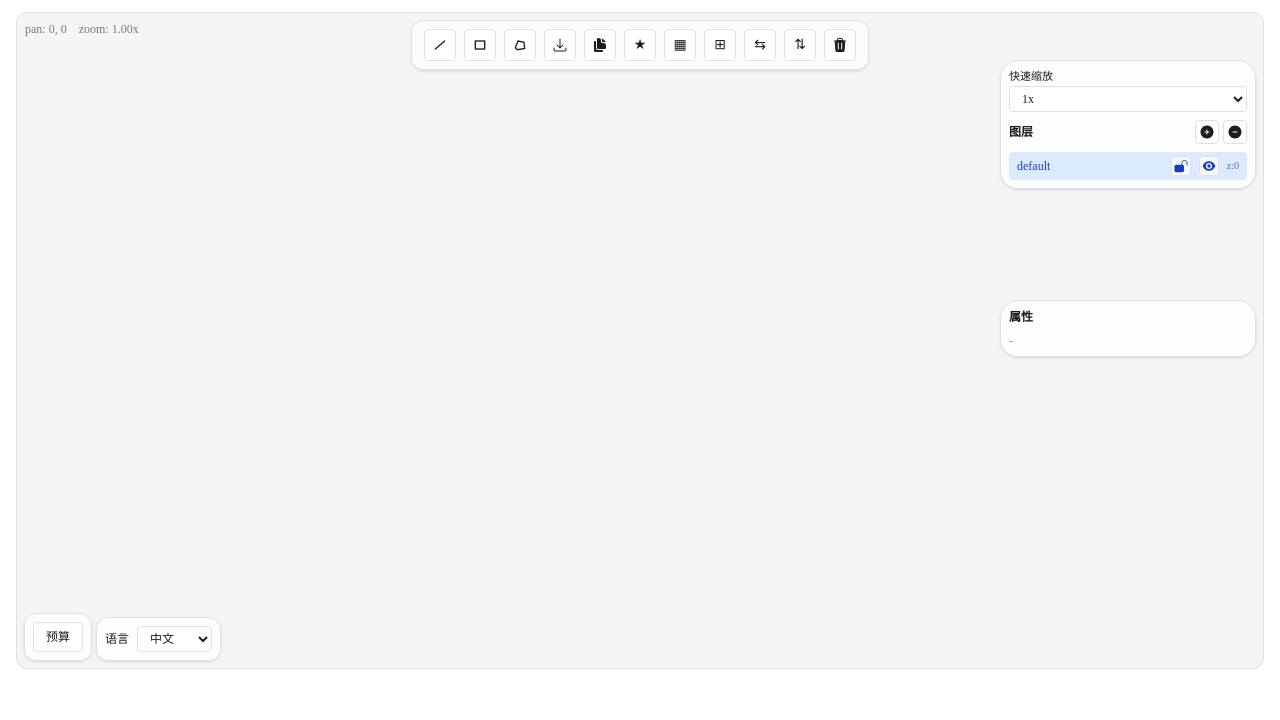
it: EditorPage › supports editing selected item alias
Click the button named "添加矩形".
click(480, 45)  # box [464,29,496,61]
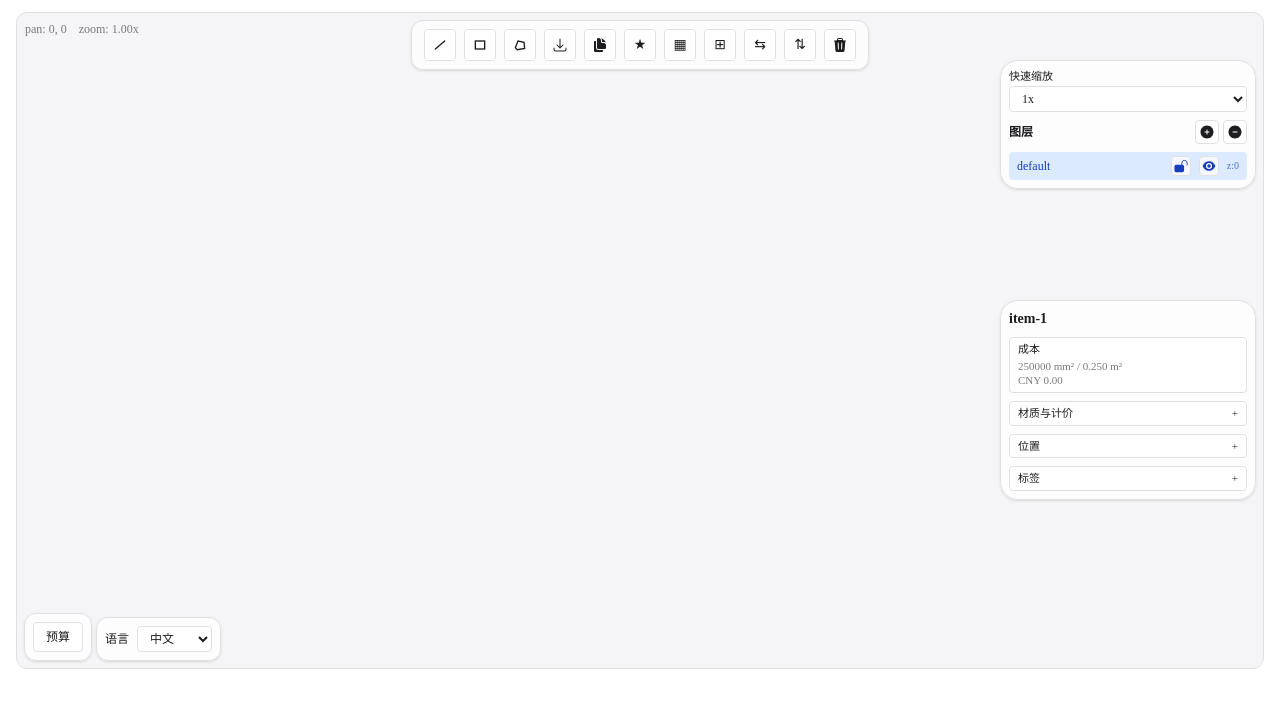
Click the button "item-1".
click(1128, 319)  # box [1009,309,1247,329]
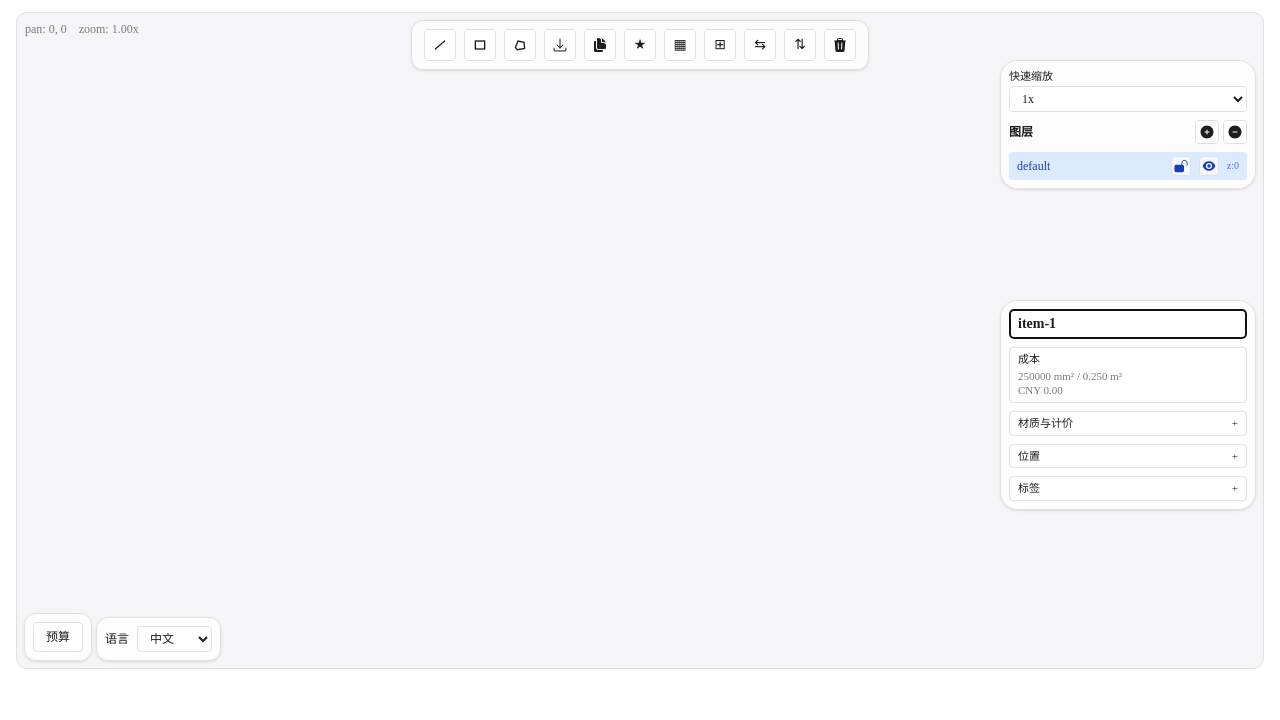
Replace the text in the field named "对象名称" with "Sofa" at (1128, 324), box [1009,309,1247,339]
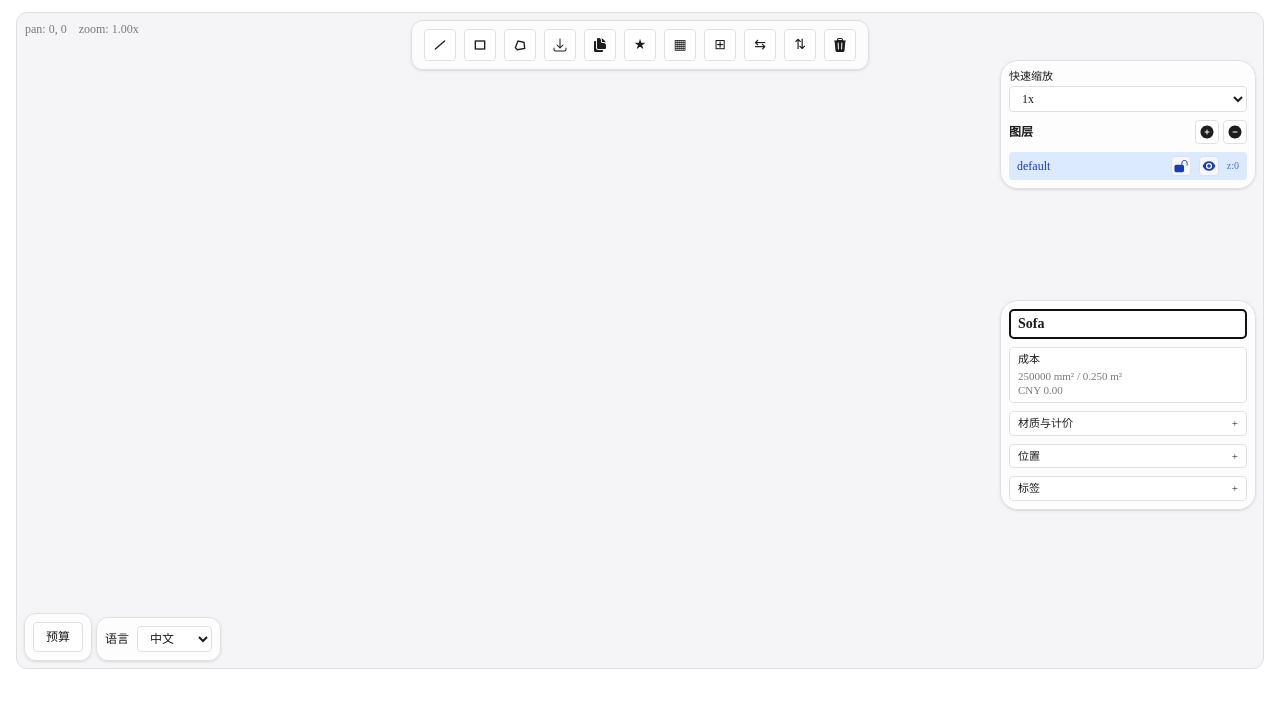
Press Enter in the field named "对象名称", box [1009,309,1247,339]
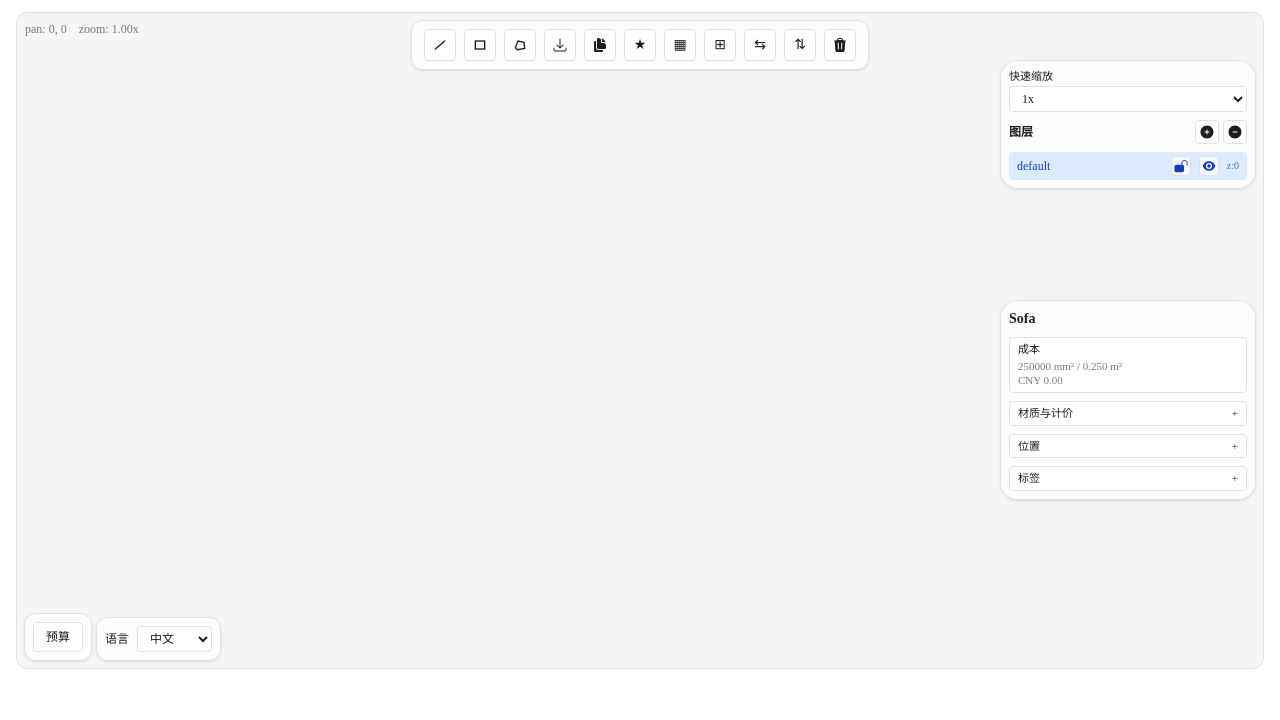
expect the button "Sofa" is shown: met, box [1009,309,1247,329]
